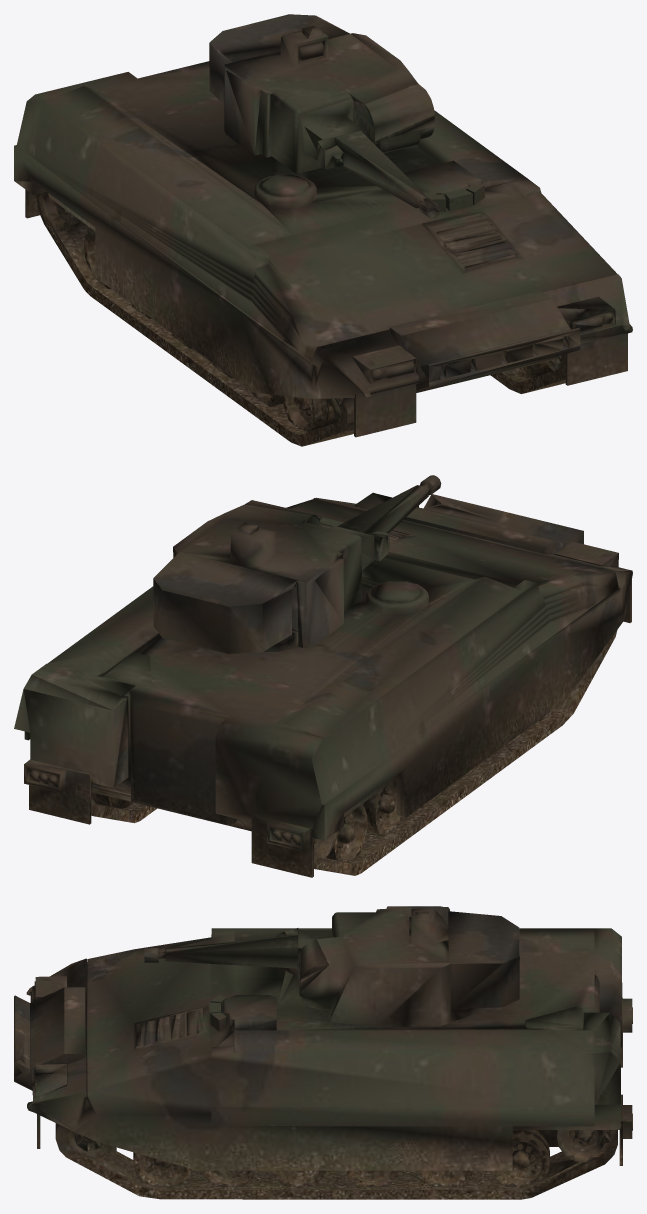
The model's file is ifv_puma.glb.
The picture shows the model from 3 angles, top to bottom: view 1: azimuth 30°, elevation 25°; view 2: azimuth 150°, elevation 25°; view 3: azimuth 270°, elevation 25°; orthographic projection. The views are drawn at different scales.
Visible parts, largest first — view 1: PUMA_IFV; view 2: PUMA_IFV; view 3: PUMA_IFV.
Boxes of the visible parts, <box> form: PUMA_IFV: <box>14,14,632,446</box>; PUMA_IFV: <box>14,475,632,877</box>; PUMA_IFV: <box>14,906,632,1199</box>.
Size of the model in its own units: 4.02 by 3.25 by 7.6.
1 material, 1 textured.
